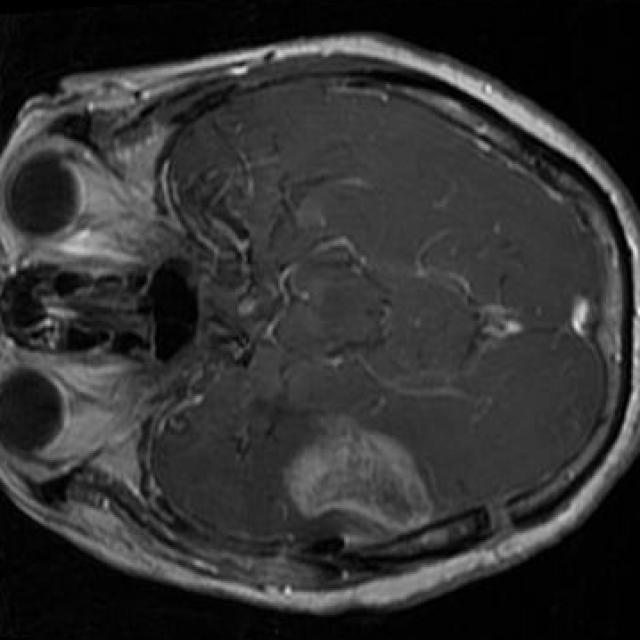glioma: (287, 428, 431, 529)
